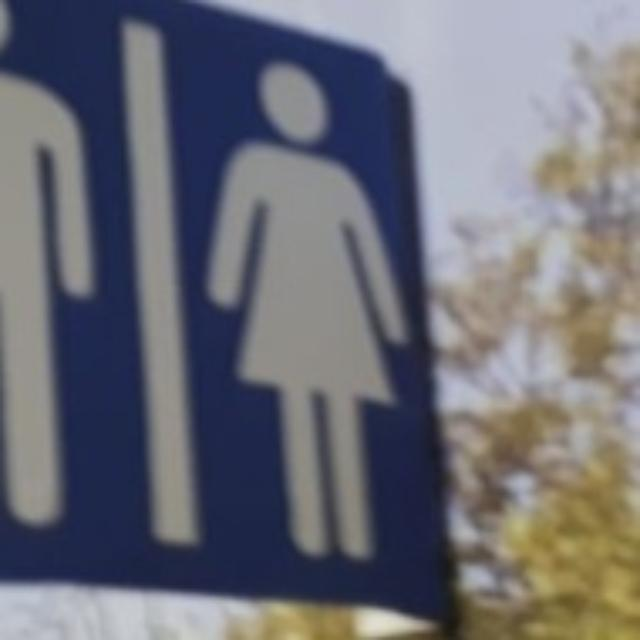womens_restroom: (205, 61, 408, 559)
